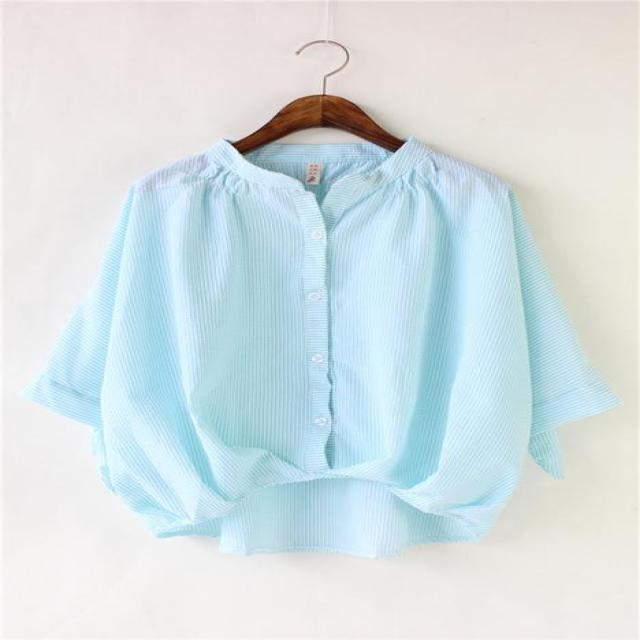short sleeve top: (25, 139, 613, 553)
